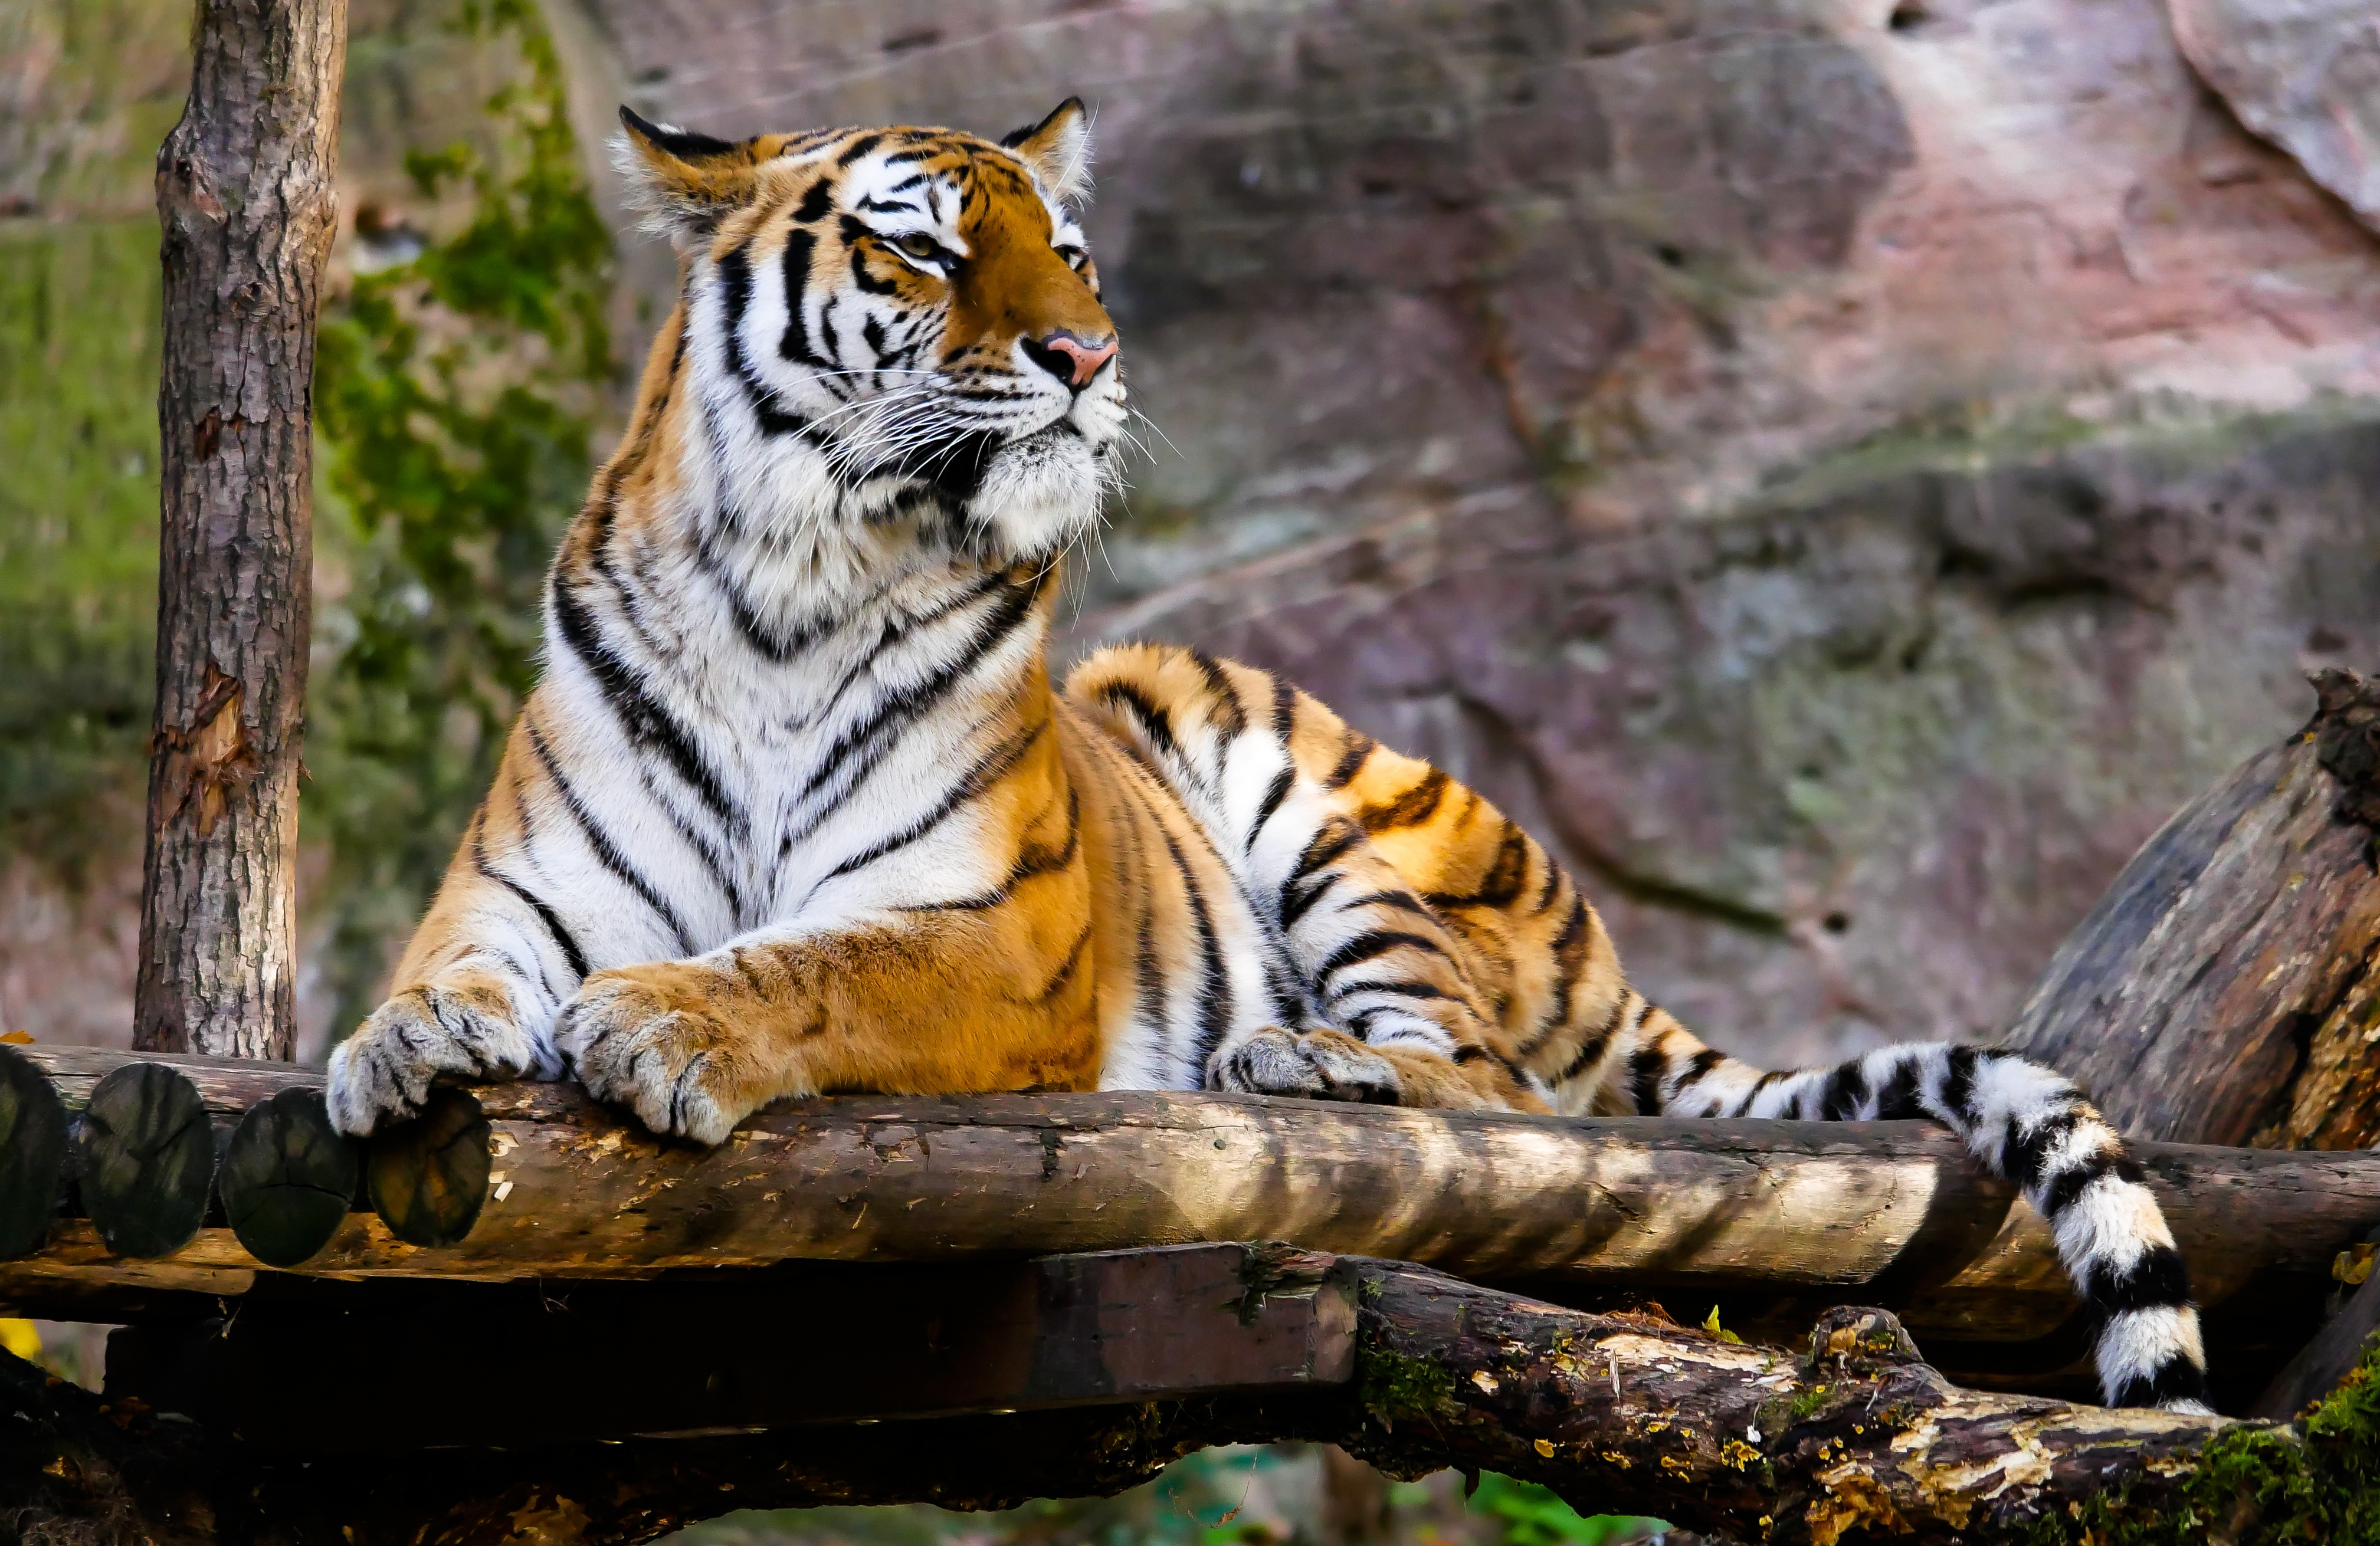tiger: (343, 94, 1990, 1289)
